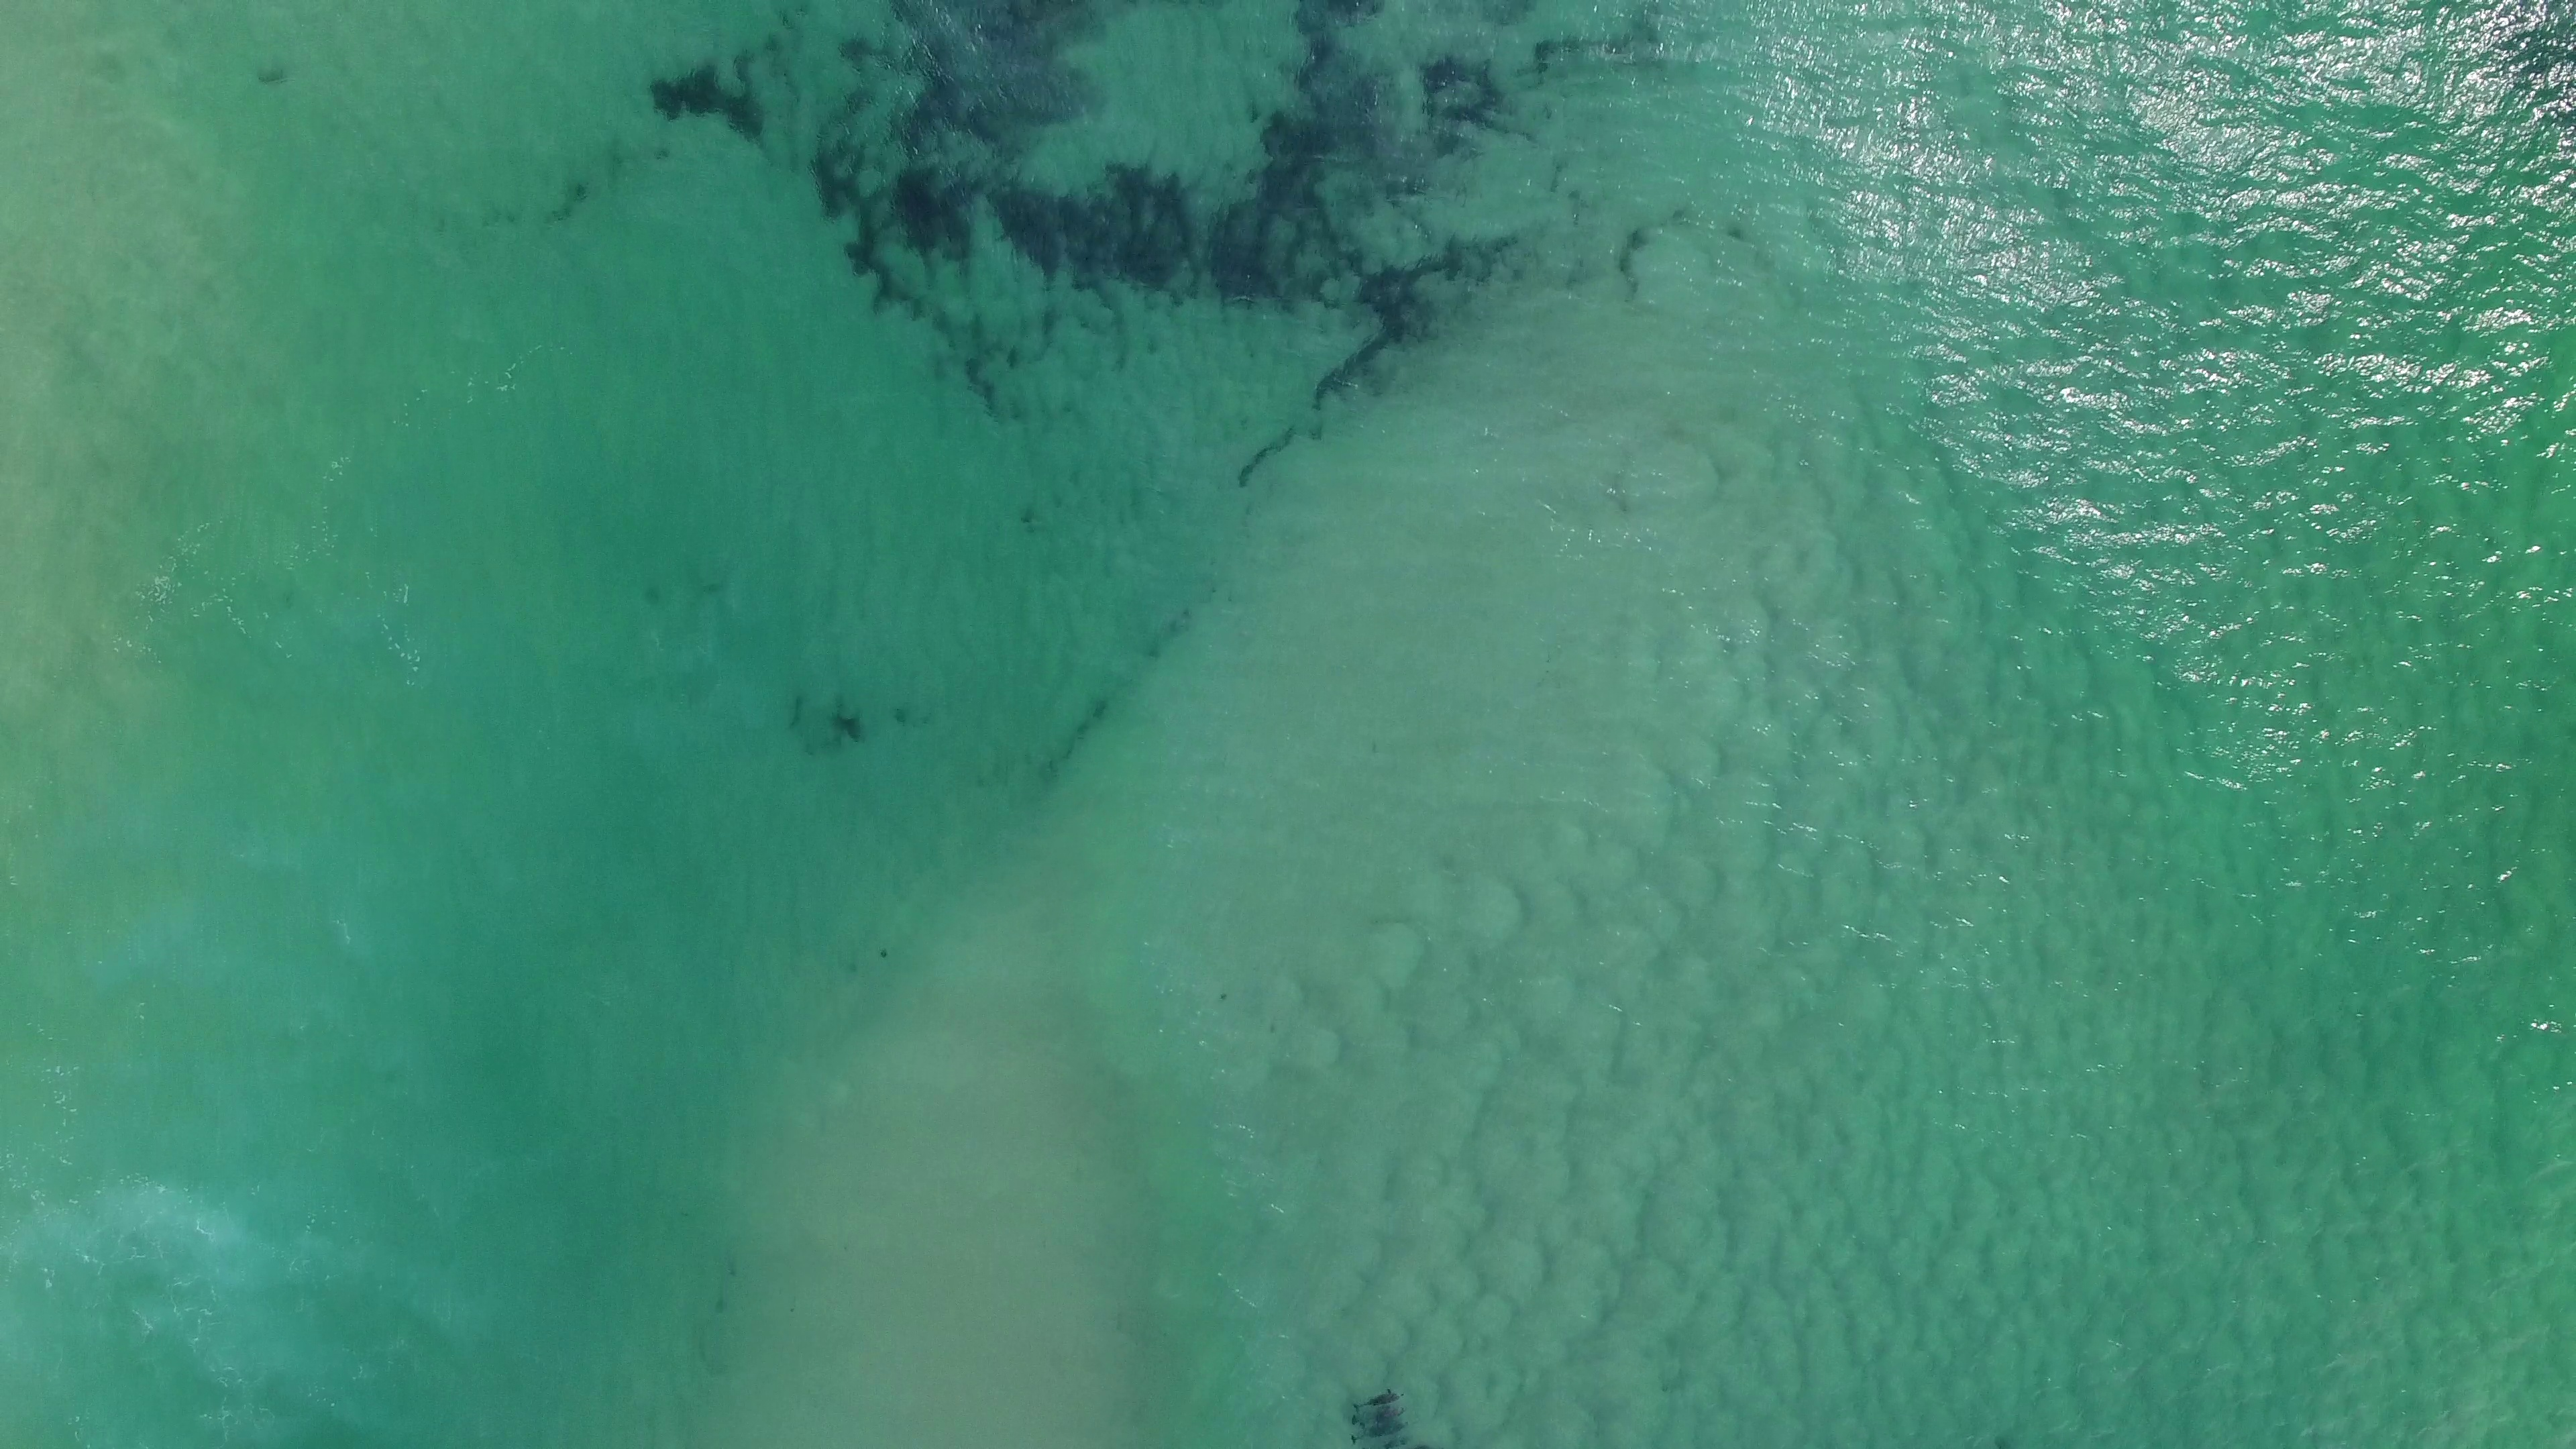dolphin: (1345, 1419, 1414, 1445), (1348, 1403, 1415, 1430), (1352, 1385, 1405, 1415)
